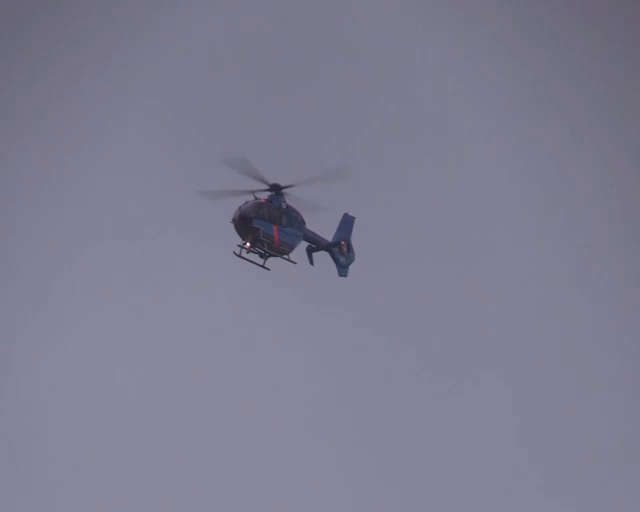HELICOPTER: (191, 153, 356, 276)
